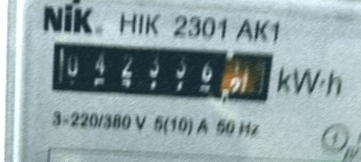0: (65, 50, 78, 79)
2: (117, 51, 135, 78)
3: (144, 51, 160, 80), (173, 51, 187, 79)
4: (91, 51, 107, 78)
6: (198, 57, 213, 84)
screen: (40, 30, 281, 115)
